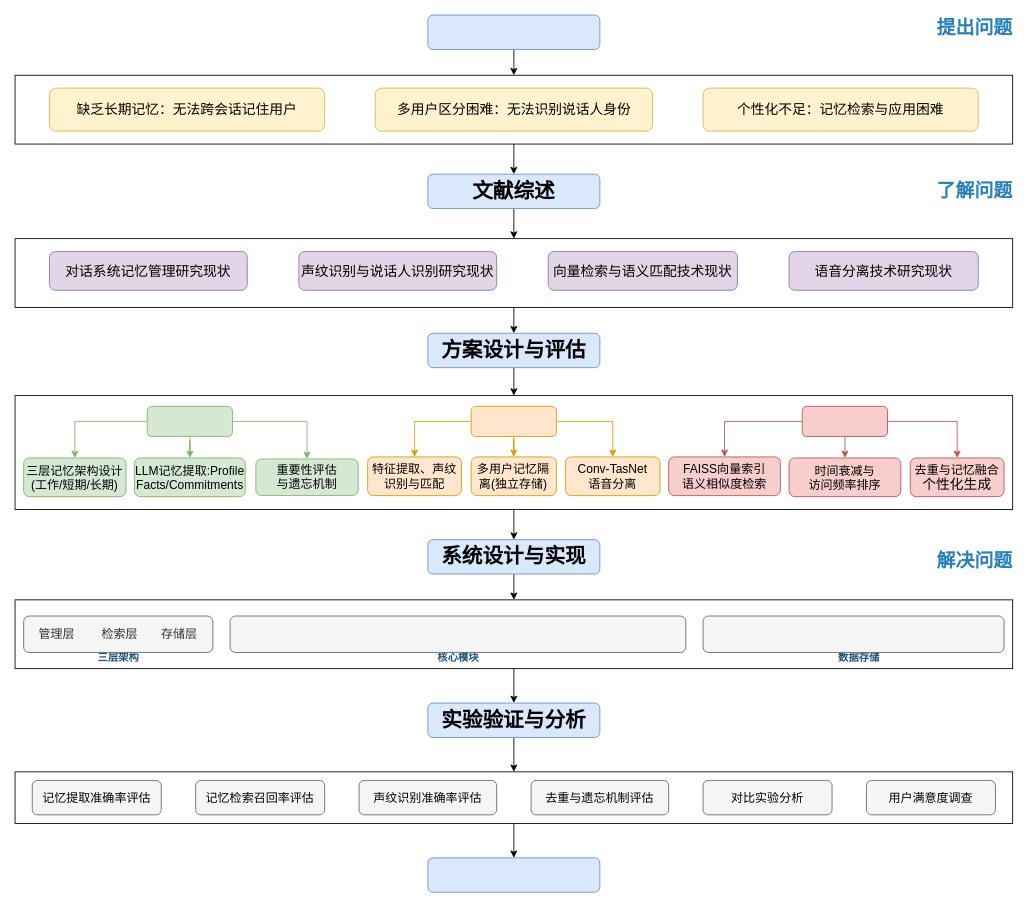
Some shapes in this 1028 by 907 pixel diagram are drawn without their labels. Each missing label, with the centre of its shape:
SQLite 结构化存储、 FAISS 向量索引、 JSON 元数据文件: pixel 853 633
多用户场景: pixel 513 420
检索与生成: pixel 844 420
研究背景与意义: pixel 513 31
结论与展望: pixel 513 874
语音活动检测VAD、语音识别ASR(声纹识别)、LLM生成(记忆管理)、语音合成TTS: pixel 457 633
长期记忆管理: pixel 189 420
